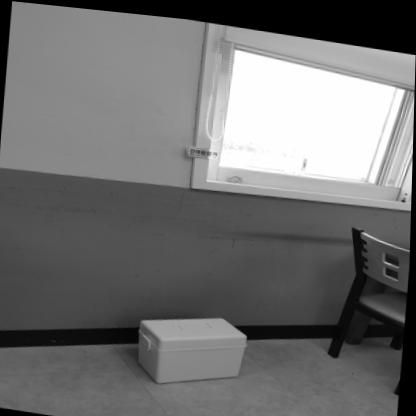DDL: (134, 300, 250, 390)
